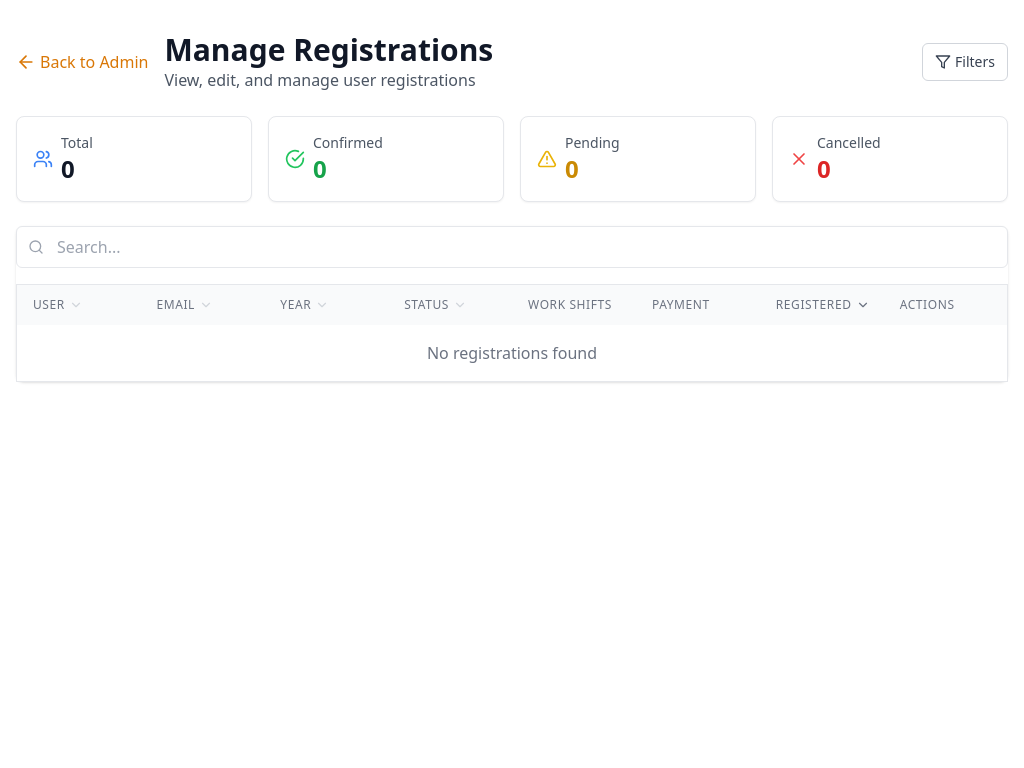
Test case: ManageRegistrationsPage › should request and display the configured registration year by default
This screenshot has width=1024, height=768.
Click the button "Filters" at (965, 62), box [922,43,1008,81]
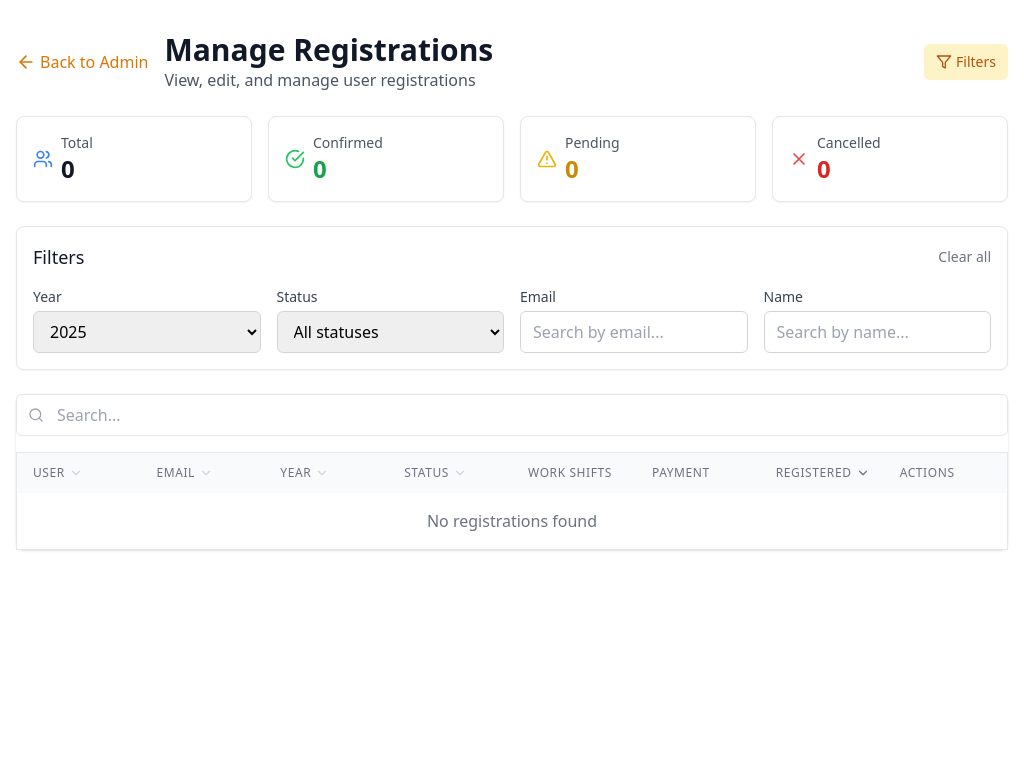
Now the dropdown labelled "Year" shows "2025", box [33,311,260,353]
Click the button "Clear all" at (965, 257), box [938,247,991,267]
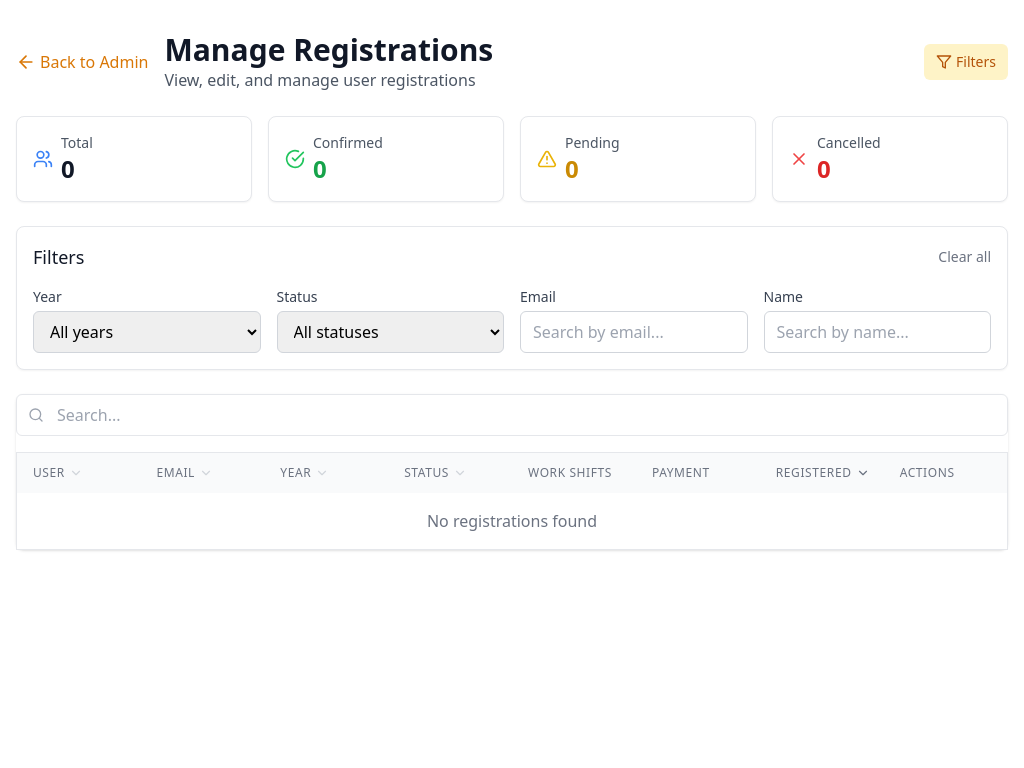
Now the dropdown labelled "Year" shows "All years", box [33,311,260,353]
